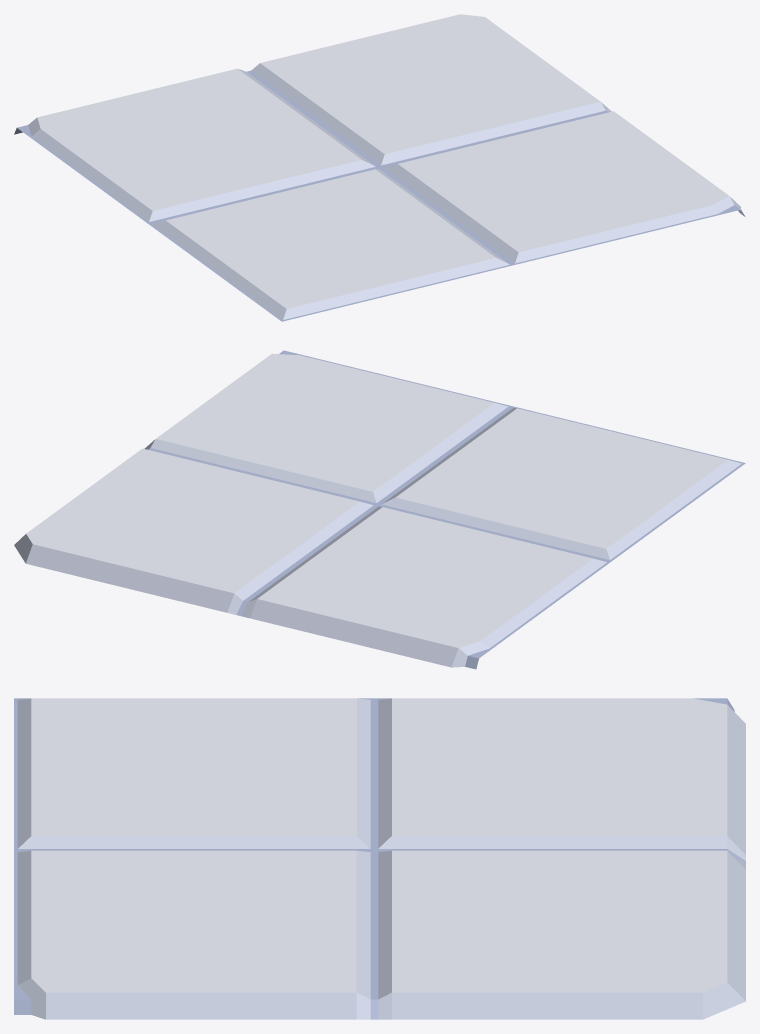
File: Tile_Floor_Corner_In_Cap.fbx
The picture shows the model from 3 angles, top to bottom: view 1: azimuth 30°, elevation 25°; view 2: azimuth 150°, elevation 25°; view 3: azimuth 270°, elevation 25°; orthographic projection. The views are drawn at different scales.
Parts seen in each view (by area): view 1: Tile_Floor_CornerIN_Cap; view 2: Tile_Floor_CornerIN_Cap; view 3: Tile_Floor_CornerIN_Cap.
Part boxes in pixels (x1=…): Tile_Floor_CornerIN_Cap: x1=14, y1=14, x2=745, y2=321; Tile_Floor_CornerIN_Cap: x1=14, y1=350, x2=745, y2=669; Tile_Floor_CornerIN_Cap: x1=14, y1=698, x2=745, y2=1019.
Bounding box in the file's own units: 203 × 5.9 × 203.
Materials: 1 (1 with a texture image).
